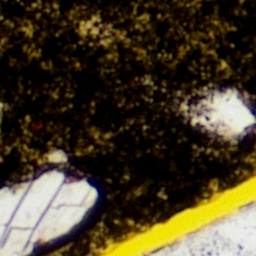cement_matrix: (0, 0, 255, 255), (46, 150, 65, 165), (82, 22, 94, 32)
cracks: (92, 172, 255, 255)
gravel_crushed_stones: (0, 174, 92, 255), (144, 202, 255, 255), (186, 89, 255, 140), (47, 151, 64, 164), (83, 23, 93, 31)
